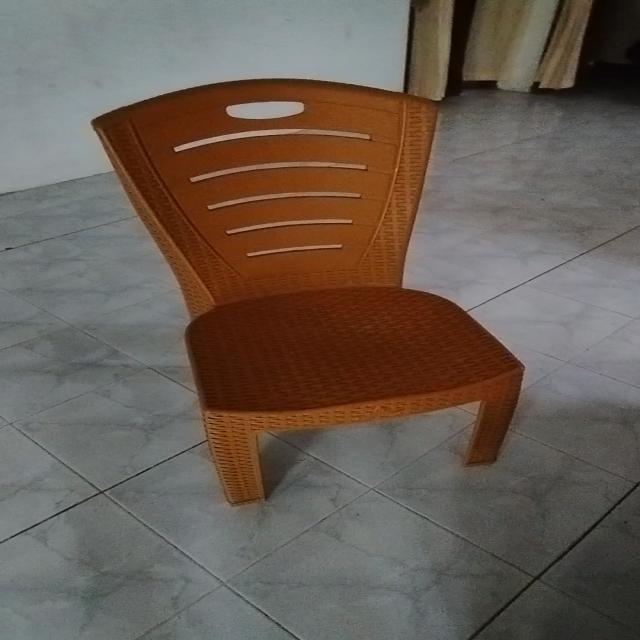chair: (67, 60, 575, 529)
